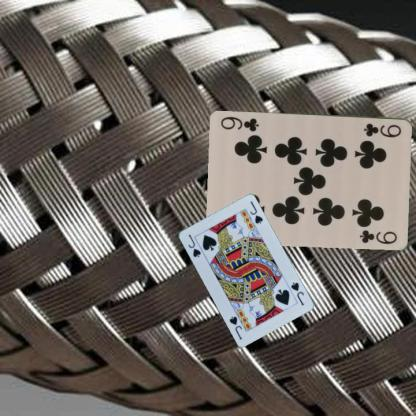9c: (361, 120, 403, 139)
Js: (288, 280, 305, 306), (186, 232, 202, 258)
